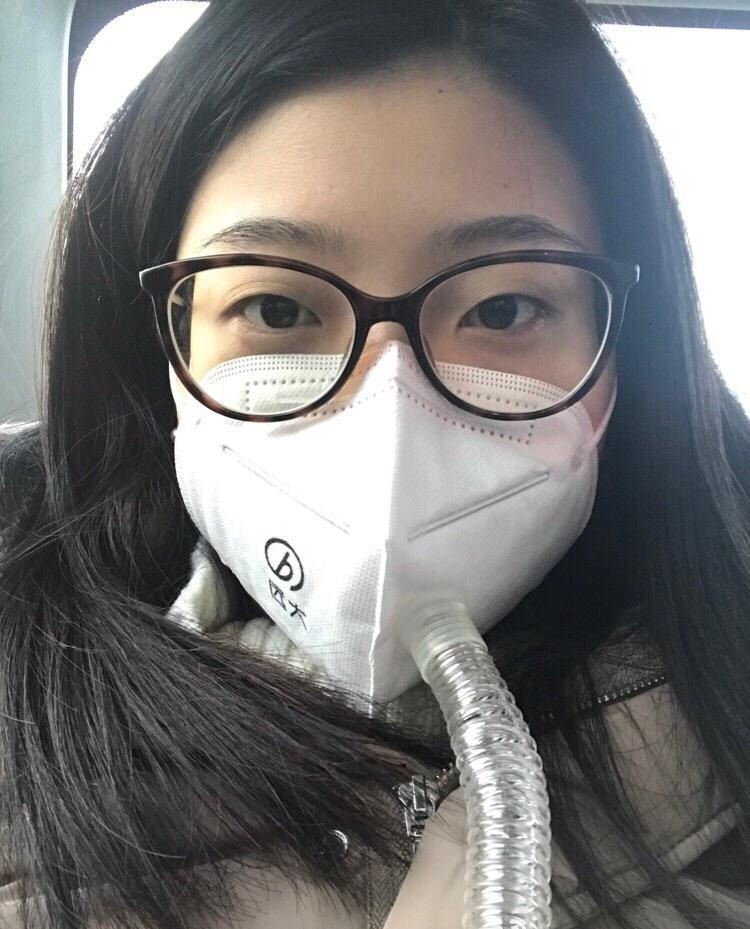OK: (157, 175, 608, 704)
